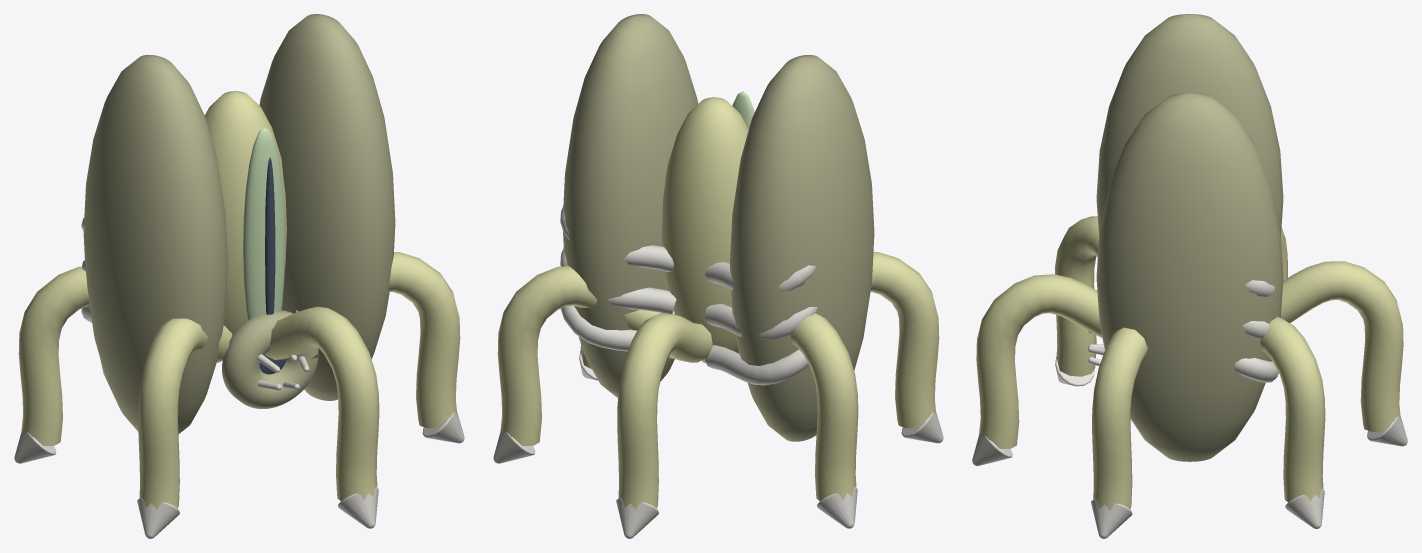
The model's file is bio_window_sac_09_near.glb.
The picture shows the model from 3 angles, left to right: view 1: azimuth 30°, elevation 25°; view 2: azimuth 150°, elevation 25°; view 3: azimuth 270°, elevation 25°; orthographic projection. The views are drawn at different scales.
Visible parts, largest first — view 1: Separated curved shell, Crooked support.003, Crooked support.002, Crooked support.001, Crooked support.004, Internal receptor sac, Single vertical photoreceptor, Raised oral lip, Long internal pupil, Contact spur.002, Contact spur.003, Contact spur.001 (+2 smaller); view 2: Separated curved shell, Internal receptor sac, Crooked support, Shell window buttress, Crooked support.005, Crooked support.001, Crooked support.002, Contact spur, Contact spur.001, Contact spur.005, Contact spur.002; view 3: Separated curved shell, Crooked support.003, Crooked support, Crooked support.005, Crooked support.004, Crooked support.002, Shell window buttress, Contact spur.004, Contact spur.005, Contact spur.003, Contact spur.
Boxes of the visible parts, x1=… form: Separated curved shell: x1=83, y1=14, x2=395, y2=433; Crooked support.003: x1=265, y1=306, x2=379, y2=500; Crooked support.002: x1=138, y1=318, x2=232, y2=509; Crooked support.001: x1=18, y1=266, x2=89, y2=445; Crooked support.004: x1=296, y1=252, x2=460, y2=428; Internal receptor sac: x1=204, y1=91, x2=286, y2=335; Single vertical photoreceptor: x1=243, y1=127, x2=285, y2=320; Raised oral lip: x1=222, y1=310, x2=318, y2=408; Long internal pupil: x1=265, y1=157, x2=275, y2=314; Contact spur.002: x1=137, y1=498, x2=179, y2=538; Contact spur.003: x1=338, y1=487, x2=378, y2=528; Contact spur.001: x1=14, y1=429, x2=56, y2=463; Separated curved shell: x1=563, y1=14, x2=874, y2=441; Internal receptor sac: x1=661, y1=97, x2=748, y2=363; Crooked support: x1=617, y1=313, x2=712, y2=509; Shell window buttress: x1=560, y1=206, x2=817, y2=385; Crooked support.005: x1=497, y1=266, x2=660, y2=445; Crooked support.001: x1=790, y1=313, x2=858, y2=500; Crooked support.002: x1=870, y1=252, x2=939, y2=428; Contact spur: x1=616, y1=498, x2=658, y2=538; Contact spur.001: x1=817, y1=487, x2=857, y2=528; Contact spur.005: x1=493, y1=429, x2=535, y2=463; Contact spur.002: x1=901, y1=412, x2=943, y2=443; Separated curved shell: x1=1096, y1=14, x2=1283, y2=461; Crooked support.003: x1=976, y1=274, x2=1102, y2=448; Crooked support: x1=1280, y1=261, x2=1403, y2=431; Crooked support.005: x1=1260, y1=317, x2=1325, y2=502; Crooked support.004: x1=1092, y1=327, x2=1147, y2=510; Crooked support.002: x1=1055, y1=216, x2=1098, y2=376; Shell window buttress: x1=1234, y1=280, x2=1278, y2=382; Contact spur.004: x1=1091, y1=499, x2=1132, y2=538; Contact spur.005: x1=1285, y1=489, x2=1324, y2=528; Contact spur.003: x1=972, y1=432, x2=1012, y2=465; Contact spur: x1=1367, y1=416, x2=1407, y2=446.
Bounding box in the file's own units: 1.93 × 2.13 × 2.1.
